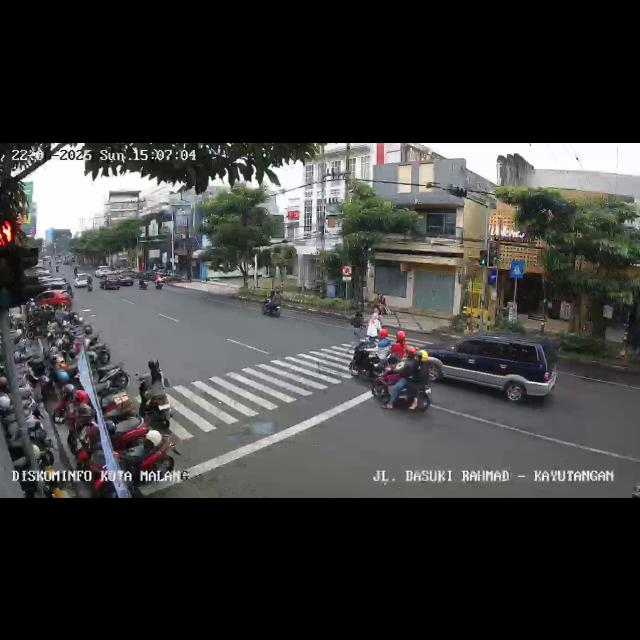car: (428, 332, 558, 408), (35, 278, 73, 310), (76, 266, 96, 290), (100, 270, 122, 290)
motorcycle: (376, 348, 436, 414), (346, 327, 406, 379), (140, 362, 172, 430), (262, 288, 284, 318), (154, 272, 164, 290)
person: (349, 306, 366, 338), (368, 311, 382, 345)
